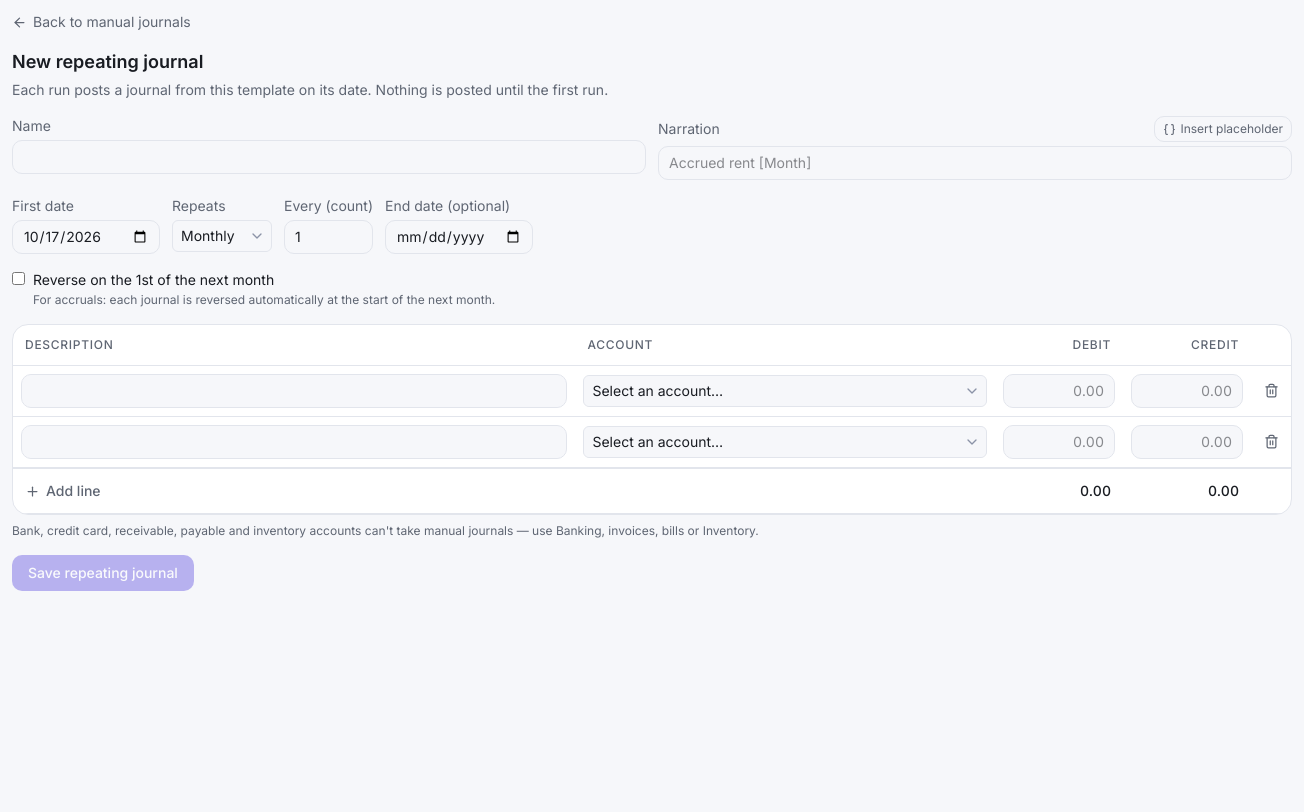
Test: placeholder previews on pages (Phase 46b) › NewRepeatingJournalPage previews the narration occurrence
This screenshot has width=1304, height=812.
Type "Run [Occurrence]" into the field with id "repeating-narration".
click(975, 163); type("Run [Occurrence]")  # box 658,146 -> 1292,180
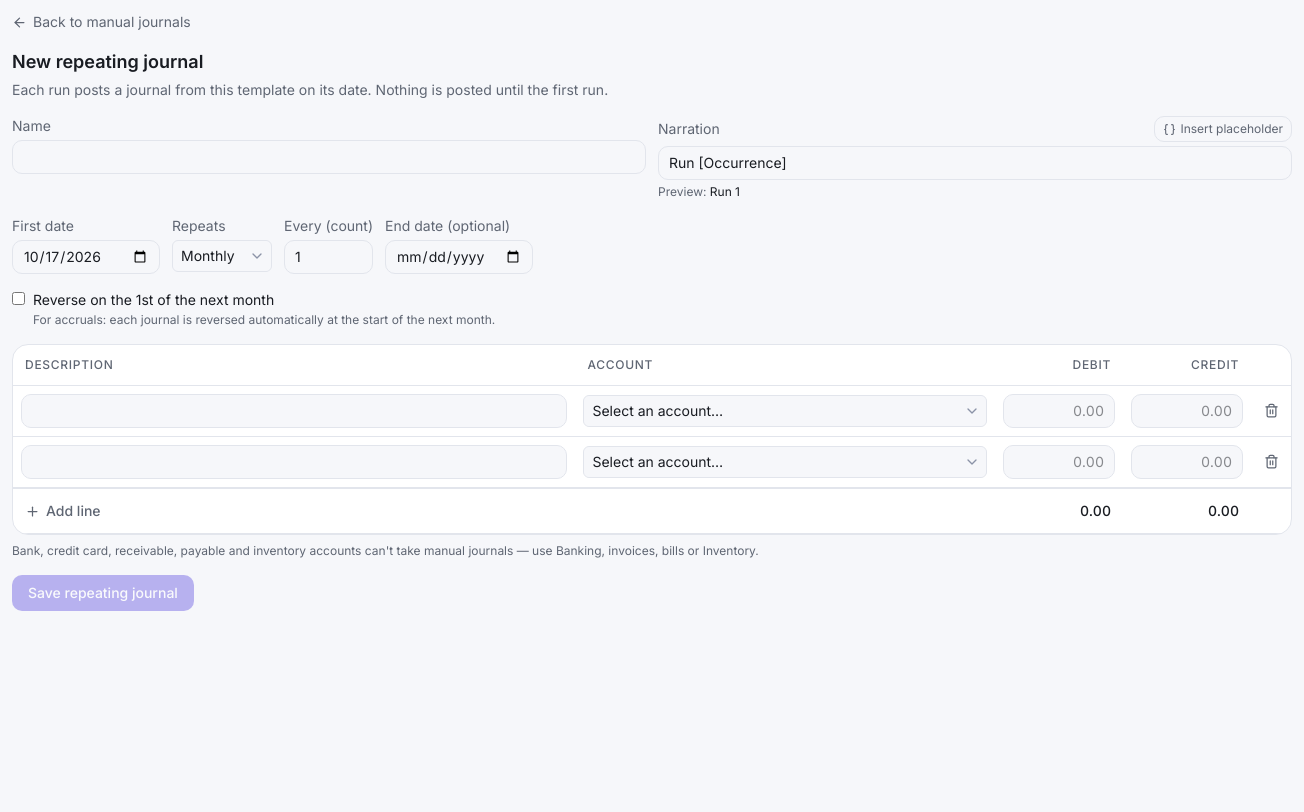
Check: the element with test id "placeholder-preview" reads "Preview: Run 1", box 658,184 -> 740,199
